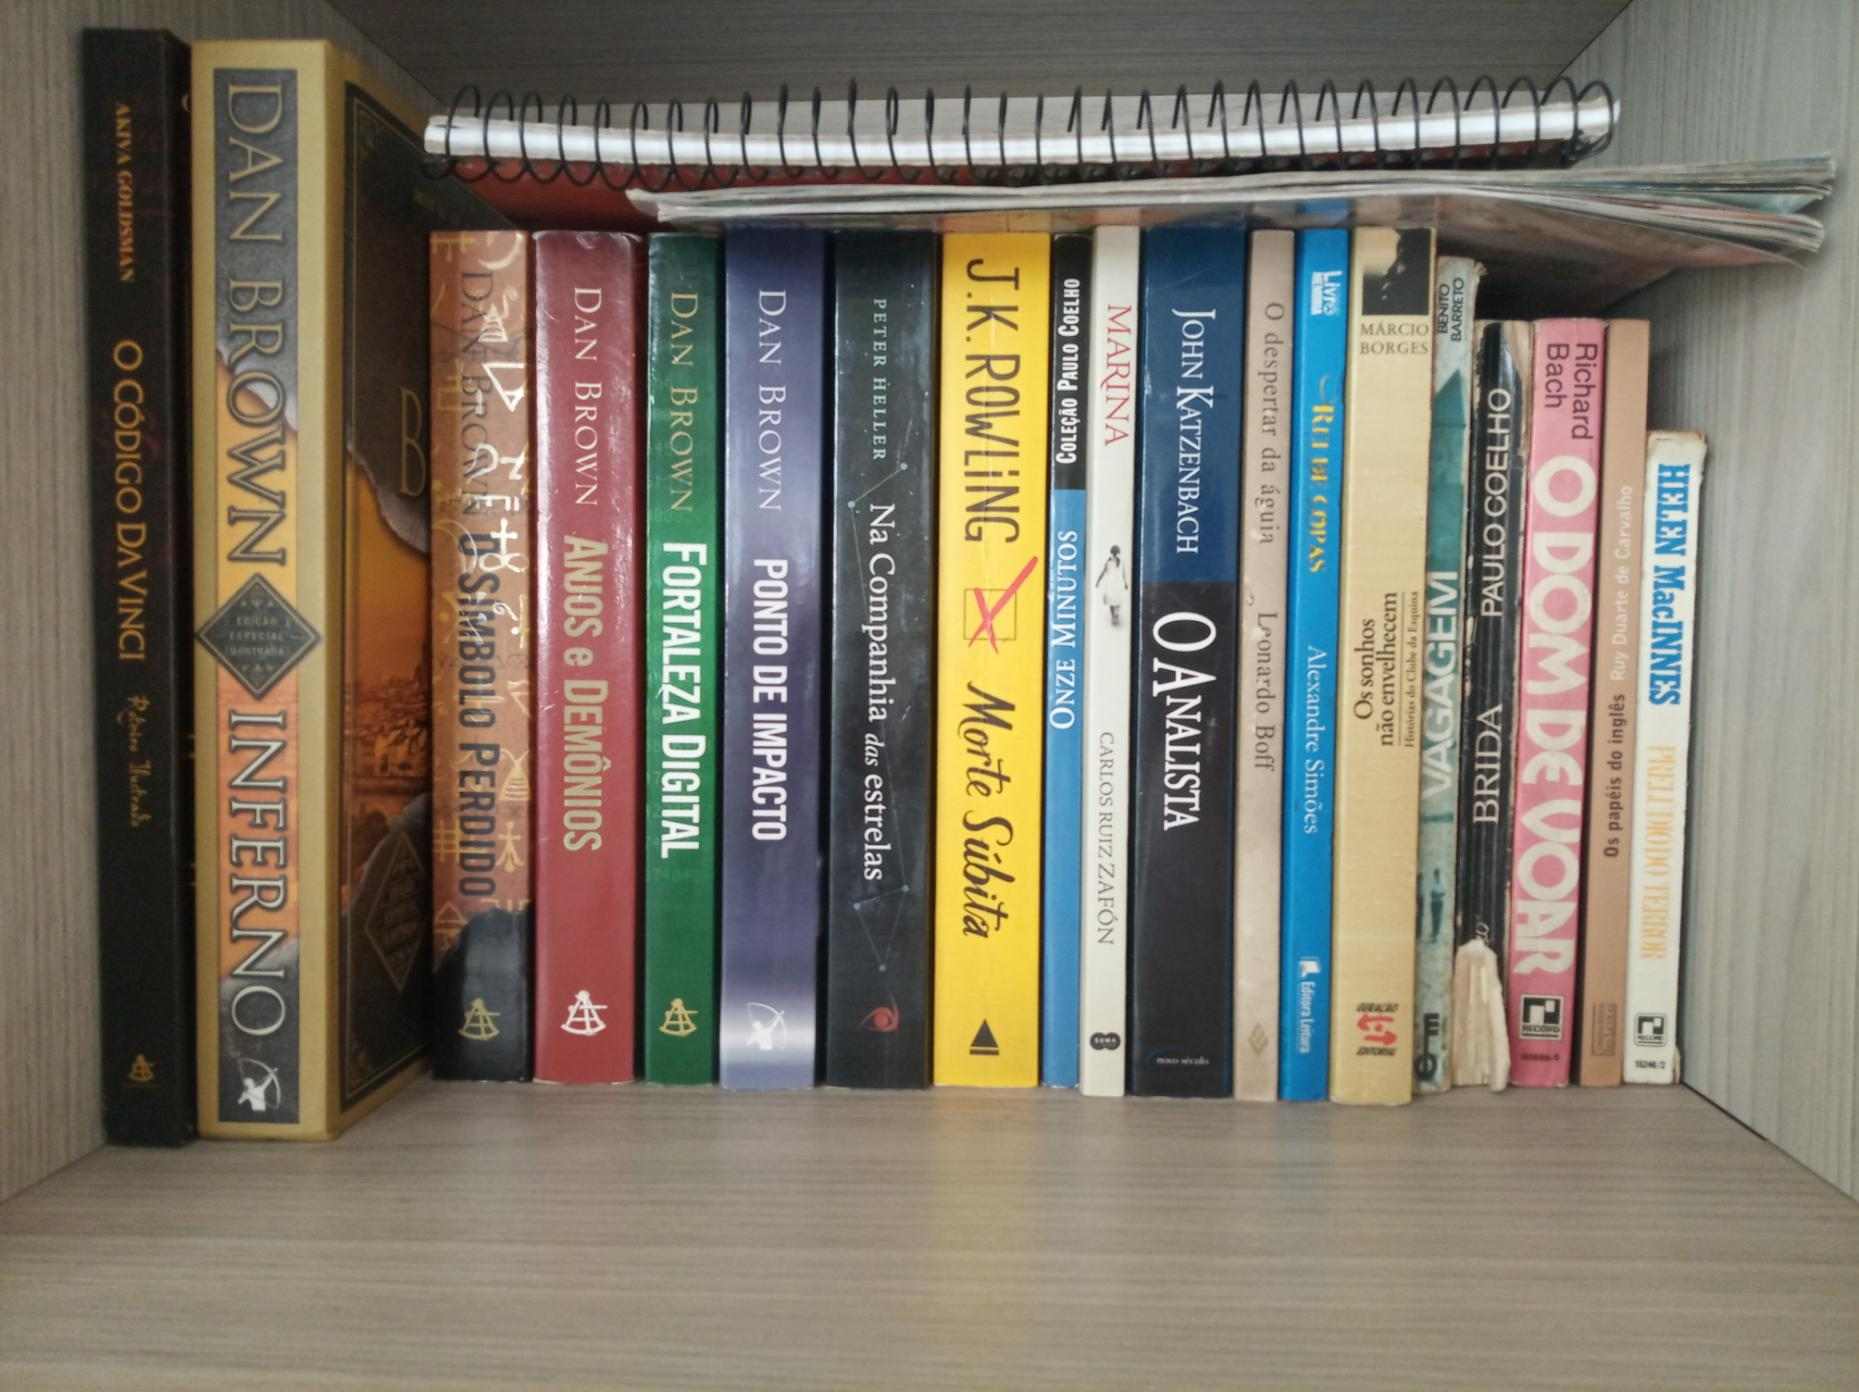book: (194, 58, 311, 1132), (536, 238, 630, 1072), (430, 244, 522, 1078), (101, 48, 170, 1138), (839, 241, 918, 1088), (948, 230, 1027, 1076), (726, 235, 804, 1089), (1156, 238, 1225, 1097), (647, 235, 700, 1083), (1293, 241, 1334, 1098), (1651, 442, 1685, 1083)
